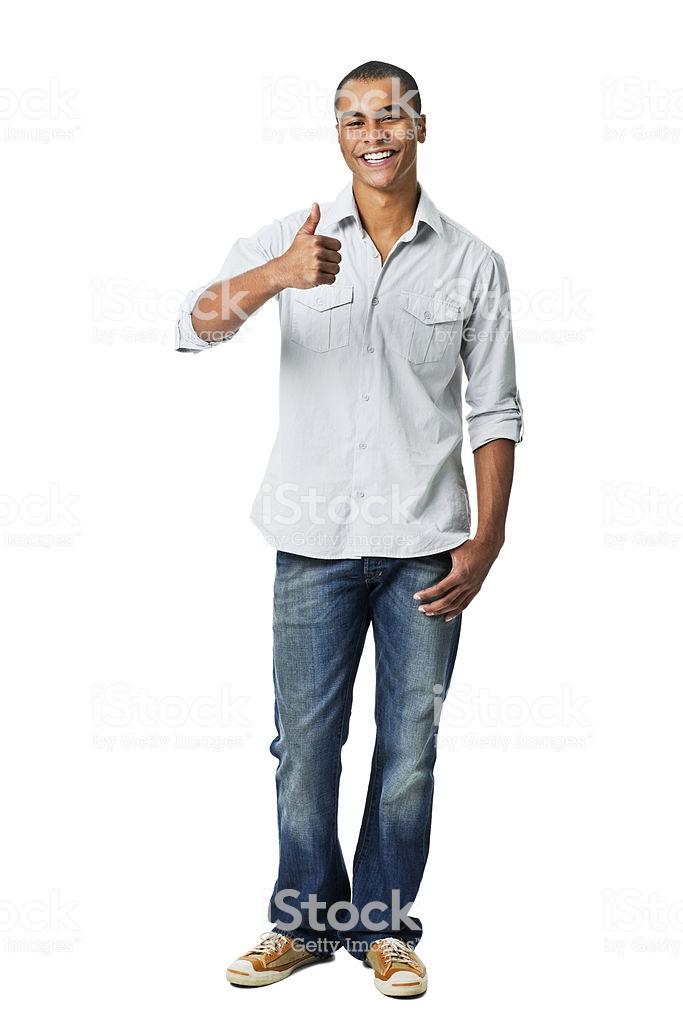thumbsup: (301, 202, 344, 289)
